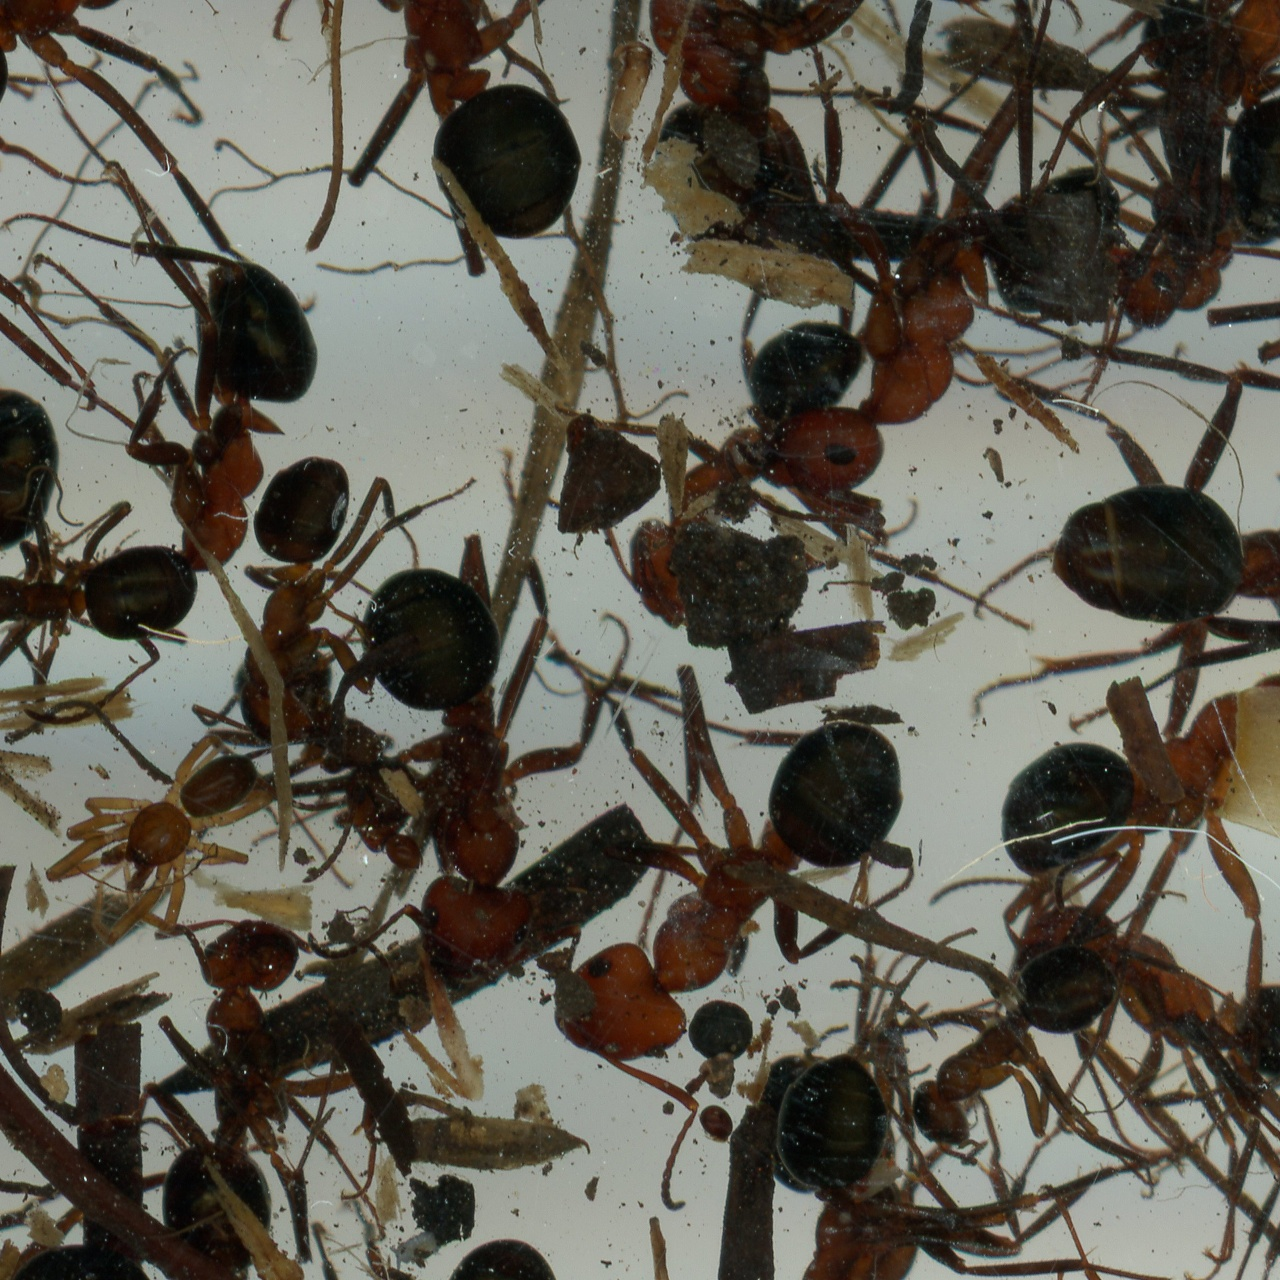arthropod: (519, 658, 969, 1107), (294, 465, 636, 990), (7, 202, 326, 730), (246, 0, 654, 406), (932, 578, 1280, 995), (727, 144, 1124, 505), (567, 0, 1013, 294), (988, 870, 1280, 1280), (175, 422, 486, 754), (20, 687, 340, 1001), (1129, 34, 1280, 607), (713, 1044, 1032, 1280), (118, 919, 331, 1262), (0, 0, 342, 196), (1019, 420, 1280, 663), (1049, 0, 1280, 268), (0, 290, 95, 836), (1073, 0, 1280, 250), (0, 490, 202, 735), (0, 1138, 182, 1280), (1039, 1184, 1280, 1280), (388, 1219, 445, 1271), (697, 1104, 738, 1150)
